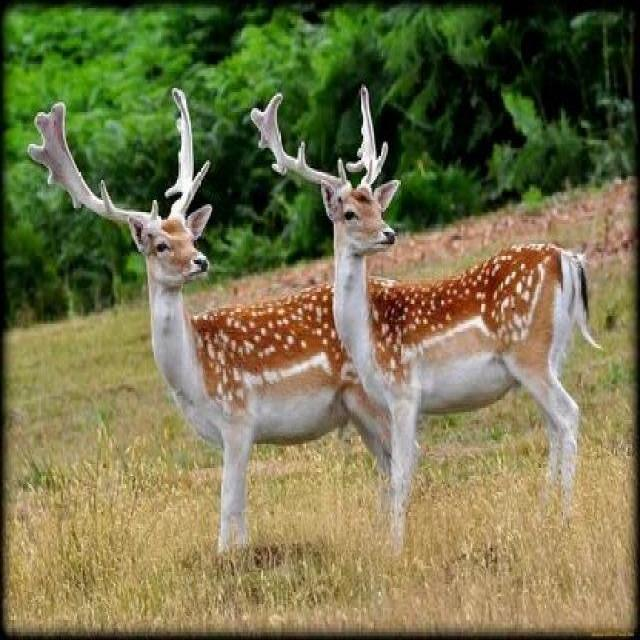deer: (86, 167, 423, 498), (308, 204, 606, 511)
